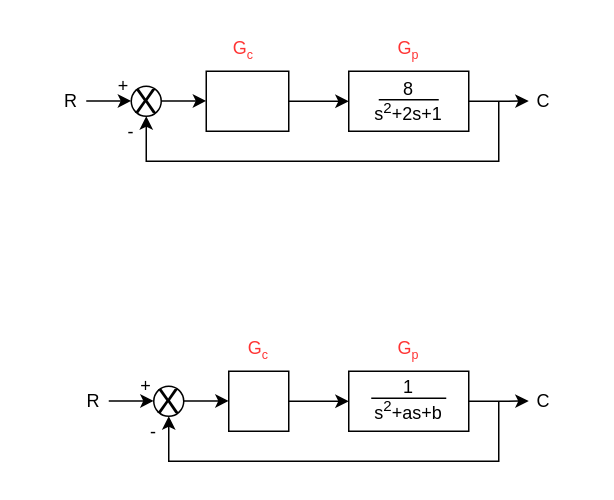
This 614x500 diagram has some shape labels left out. The centre of each missing label's shape, as x and y in pixels:
K d s + K p: the point at 247,100
K p: the point at 258,400
